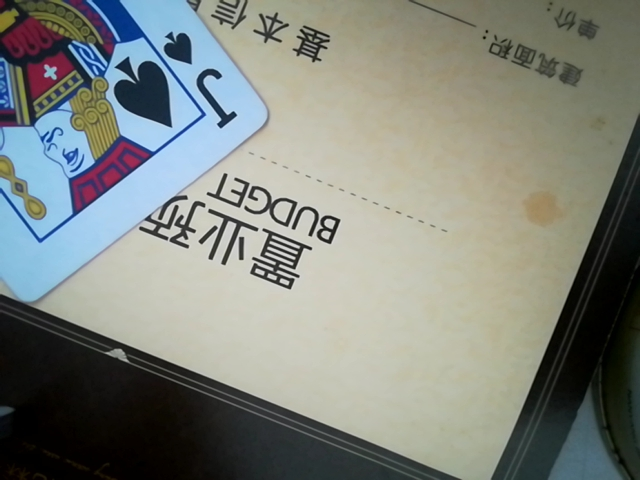ht j: (0, 0, 270, 307)
